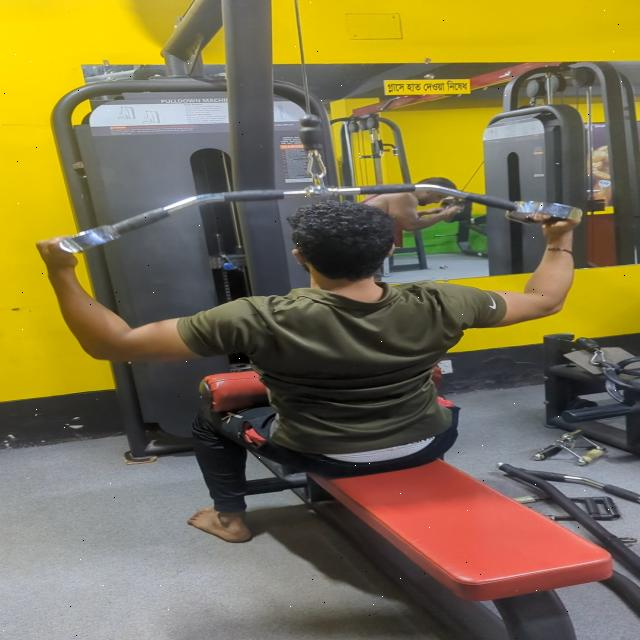Normal_LatPulldown: (16, 135, 640, 589)
